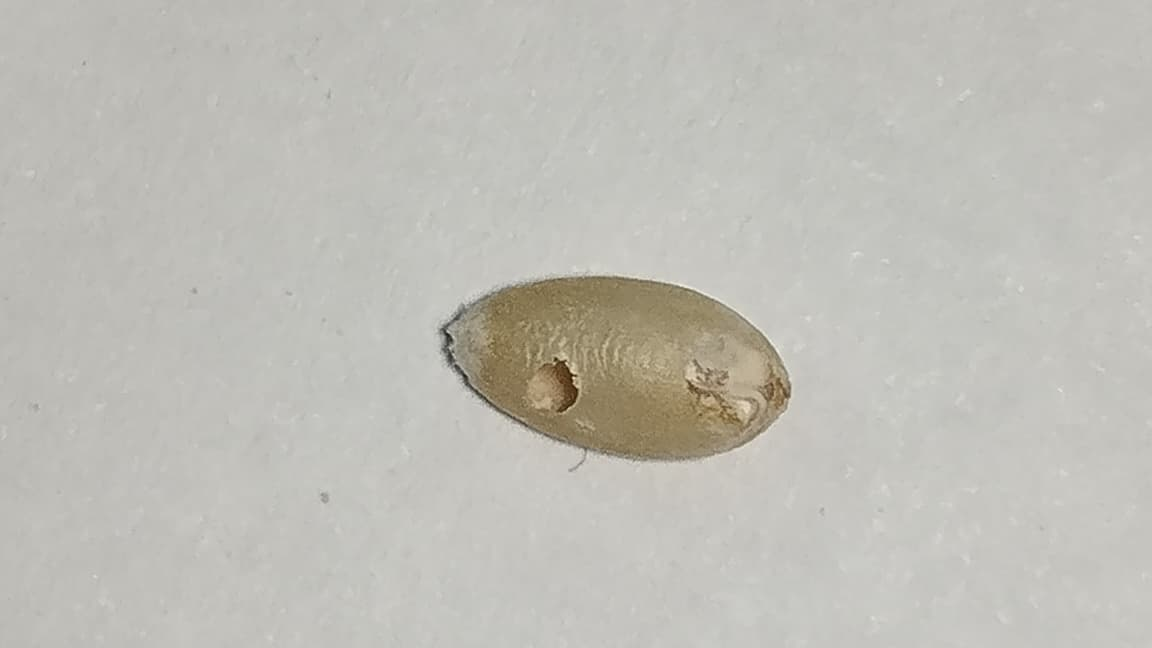damage: (443, 275, 789, 455)
insectdamage: (684, 336, 776, 429), (511, 342, 594, 428)
